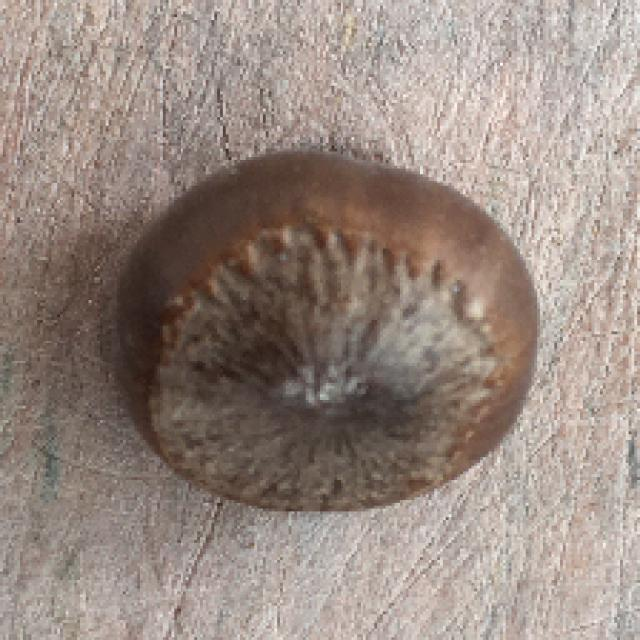damagedHazelnut: (90, 116, 536, 533)
